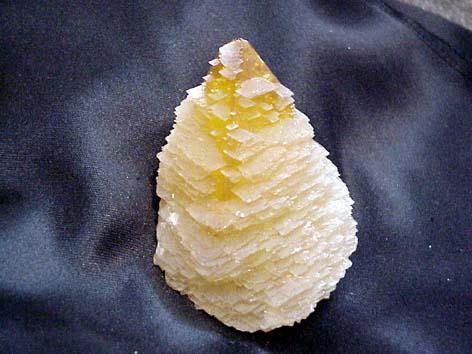calcite: (154, 38, 358, 332)
